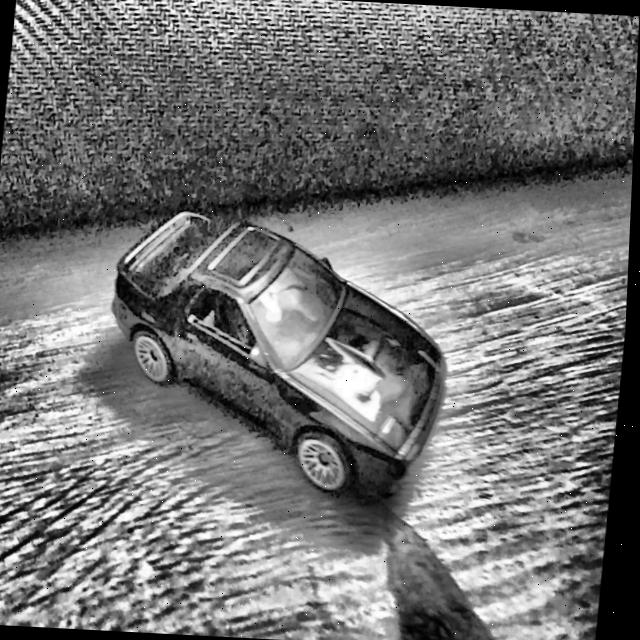car: (97, 206, 462, 505)
